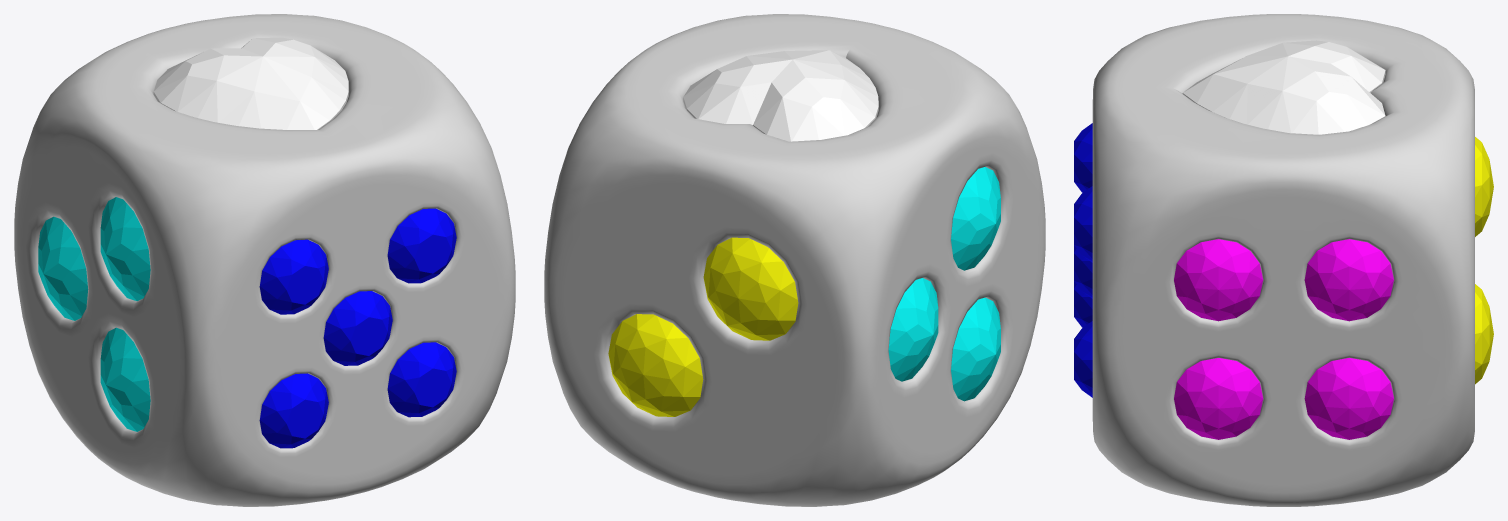
File: GemHeart1.glb
3 renders of one model, left to right at view 1: azimuth 30°, elevation 25°; view 2: azimuth 150°, elevation 25°; view 3: azimuth 270°, elevation 25°, orthographic.
Parts seen in each view (by area): view 1: Object018.003; view 2: Object018.003; view 3: Object018.003.
Boxes of the visible parts, bbox=[...] form: Object018.003: bbox=[14, 14, 515, 506]; Object018.003: bbox=[544, 14, 1045, 506]; Object018.003: bbox=[1074, 14, 1493, 506].
Bounding box in the file's own units: 0.5489 × 0.5693 × 0.5493.
